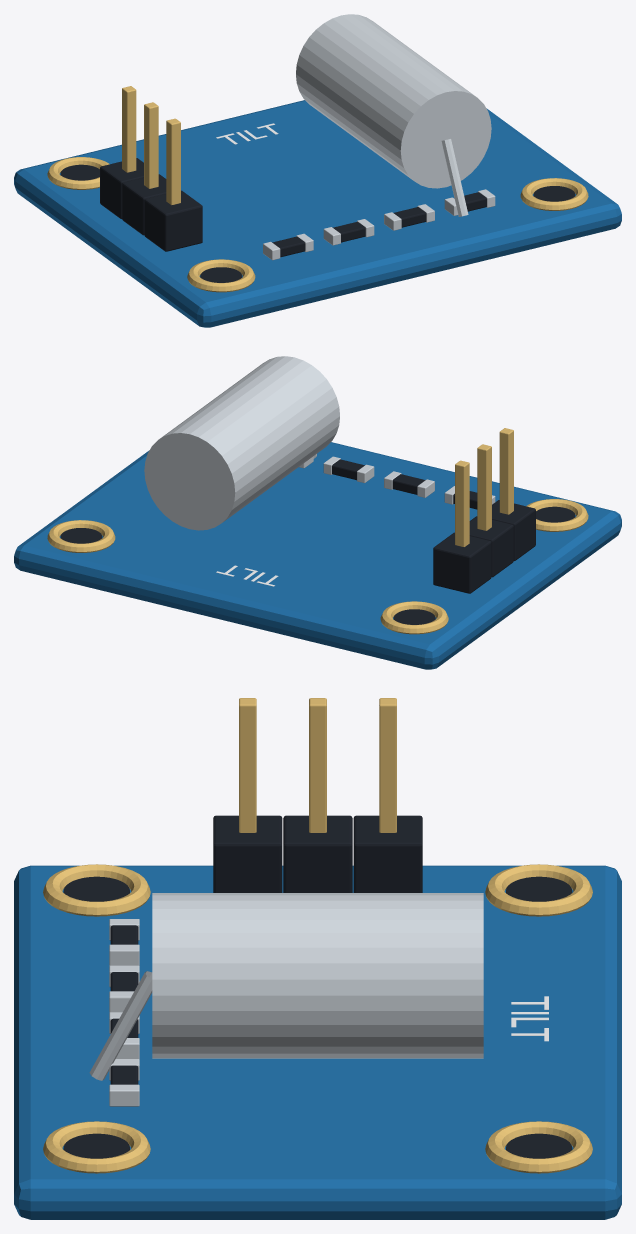
The model's file is tilt-sensor.glb.
3 renders of one model, top to bottom at view 1: azimuth 30°, elevation 25°; view 2: azimuth 150°, elevation 25°; view 3: azimuth 270°, elevation 25°, orthographic. The views are drawn at different scales.
Parts seen in each view (by area): view 1: Static body • blue, Static body • silver, Static body • black, Static body • gold; view 2: Static body • blue, Static body • silver, Static body • black, Static body • gold; view 3: Static body • blue, Static body • silver, Static body • black, Static body • gold.
Boxes of the visible parts, x1=… form: Static body • blue: x1=14, y1=100, x2=621, y2=327; Static body • silver: x1=263, y1=14, x2=495, y2=260; Static body • black: x1=60, y1=158, x2=575, y2=282; Static body • gold: x1=47, y1=86, x2=588, y2=292; Static body • blue: x1=14, y1=442, x2=621, y2=669; Static body • silver: x1=144, y1=356, x2=495, y2=530; Static body • black: x1=60, y1=459, x2=575, y2=624; Static body • gold: x1=47, y1=428, x2=588, y2=634; Static body • blue: x1=14, y1=865, x2=621, y2=1219; Static body • silver: x1=89, y1=893, x2=483, y2=1106; Static body • black: x1=63, y1=815, x2=572, y2=1158; Static body • gold: x1=43, y1=698, x2=592, y2=1173.
Bounding box in the file's own units: 28 × 9.3 × 22.
